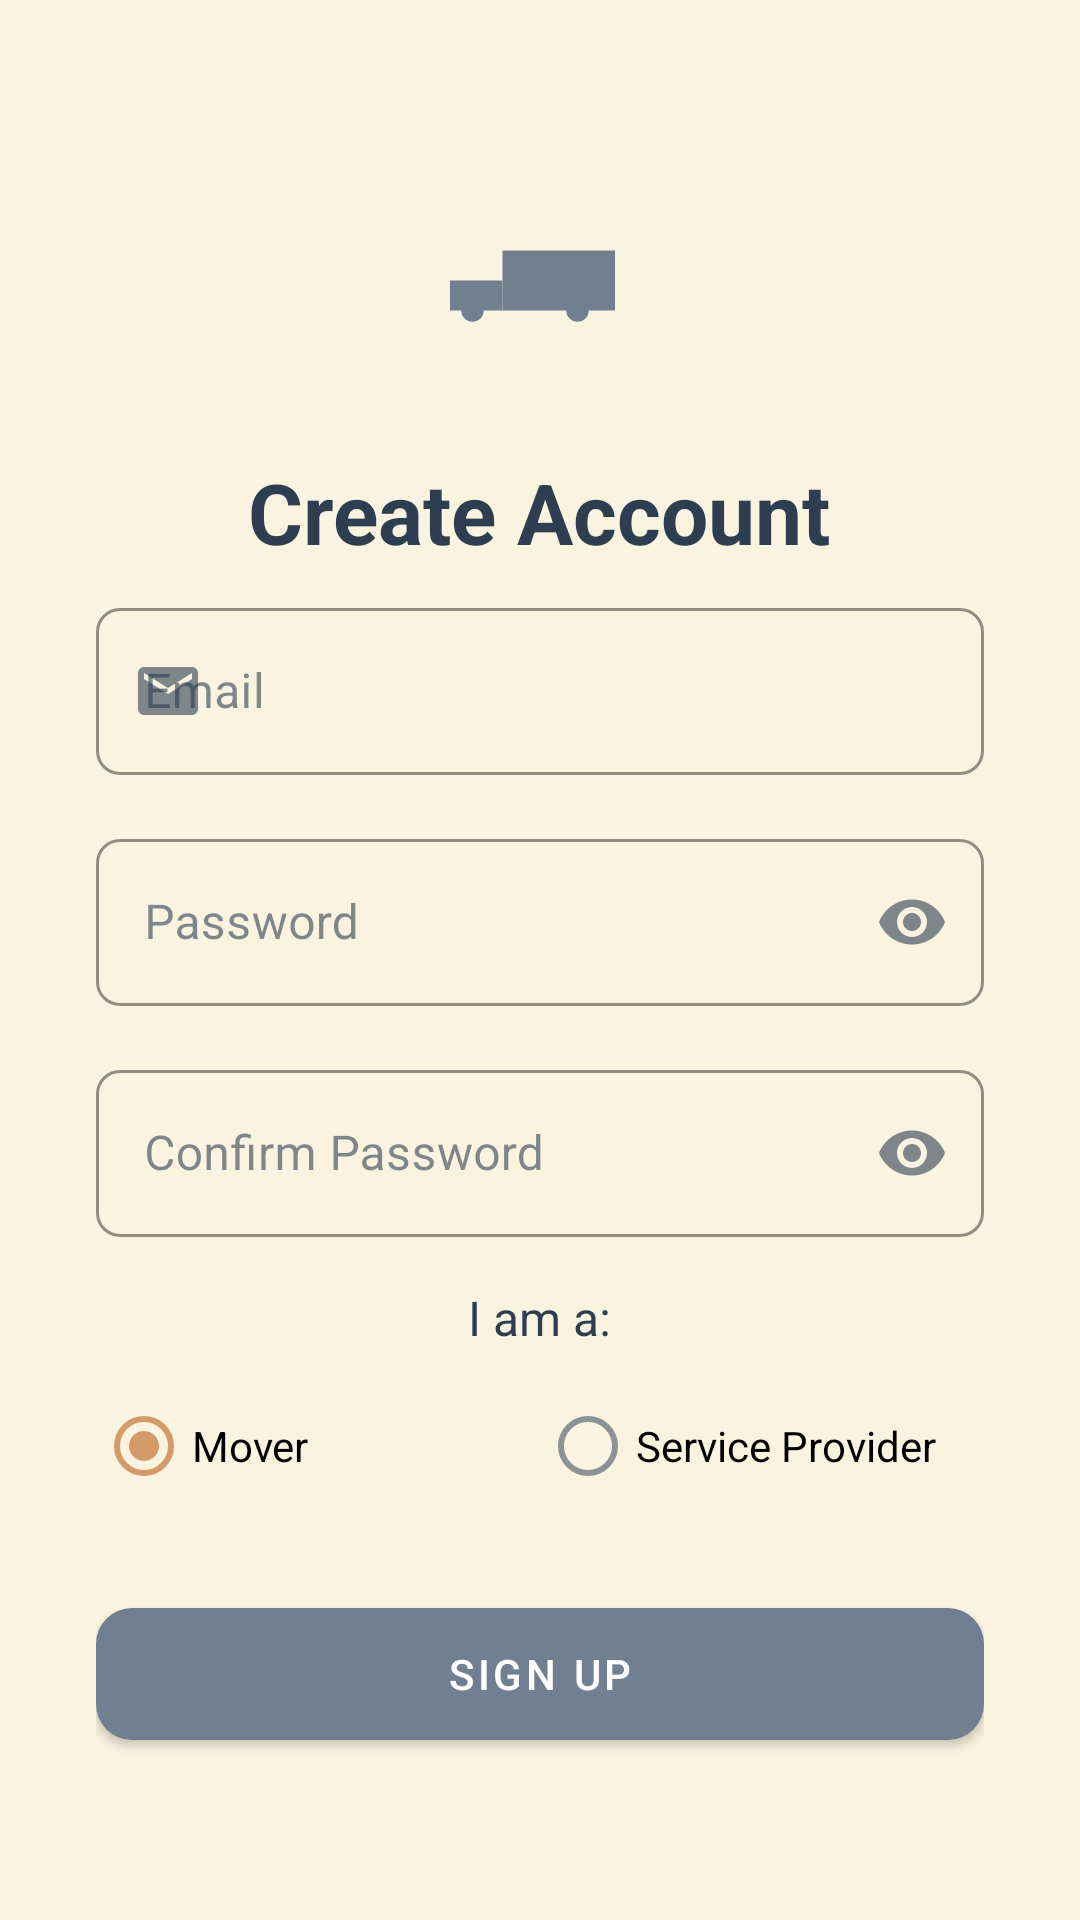

Named icons in this screenshot (1080px×1920px) and their bounding boxes, (x1, y1, x2, y2):
truck: (450, 250, 615, 322)
